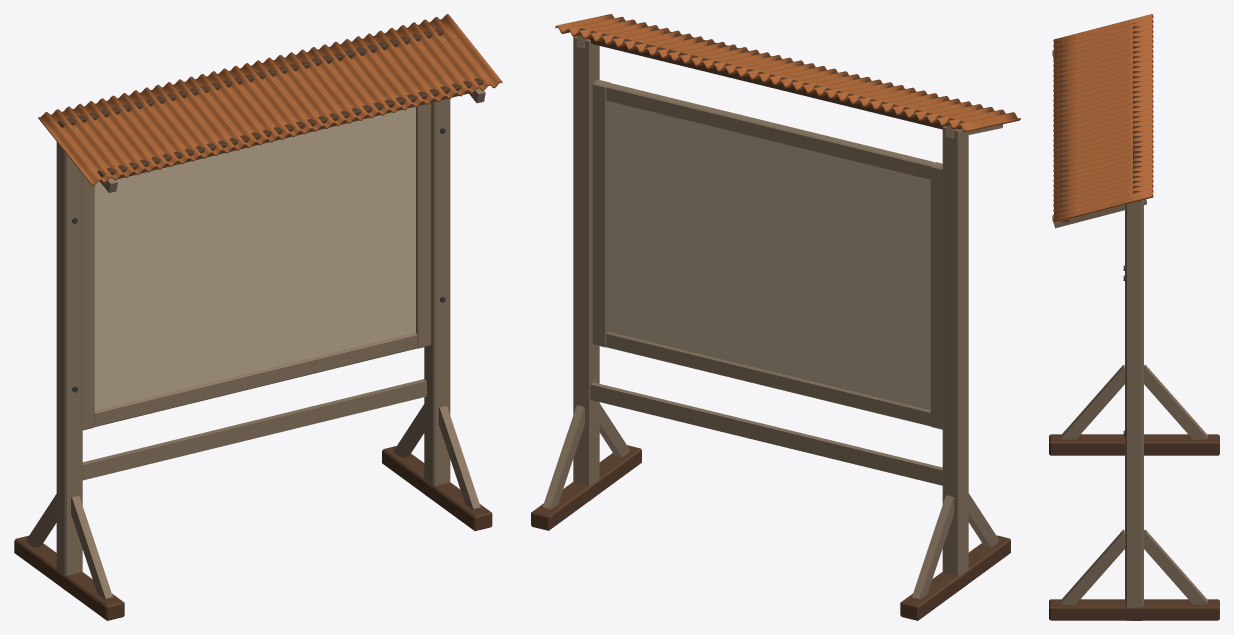
Rendered from deco_poster_board_empty.fbx.
3 views of the same model, side by side, from view 1: azimuth 30°, elevation 25°; view 2: azimuth 150°, elevation 25°; view 3: azimuth 270°, elevation 25° (orthographic). The views are drawn at different scales.
Visible parts, largest first — view 1: PosterBoard_Empty_Board, PosterBoard_Empty_Frame, PosterBoard_Empty_Hood; view 2: PosterBoard_Empty_Board, PosterBoard_Empty_Frame, PosterBoard_Empty_Hood; view 3: PosterBoard_Empty_Frame, PosterBoard_Empty_Hood.
Boxes of the visible parts, x1=… form: PosterBoard_Empty_Board: x1=94, y1=107, x2=415, y2=410; PosterBoard_Empty_Frame: x1=14, y1=28, x2=492, y2=620; PosterBoard_Empty_Hood: x1=38, y1=14, x2=502, y2=185; PosterBoard_Empty_Board: x1=608, y1=101, x2=930, y2=410; PosterBoard_Empty_Frame: x1=531, y1=19, x2=1010, y2=620; PosterBoard_Empty_Hood: x1=555, y1=14, x2=1020, y2=132; PosterBoard_Empty_Frame: x1=1049, y1=23, x2=1219, y2=620; PosterBoard_Empty_Hood: x1=1053, y1=14, x2=1153, y2=222.
Size of the model in its own units: 280 by 307 by 110.
